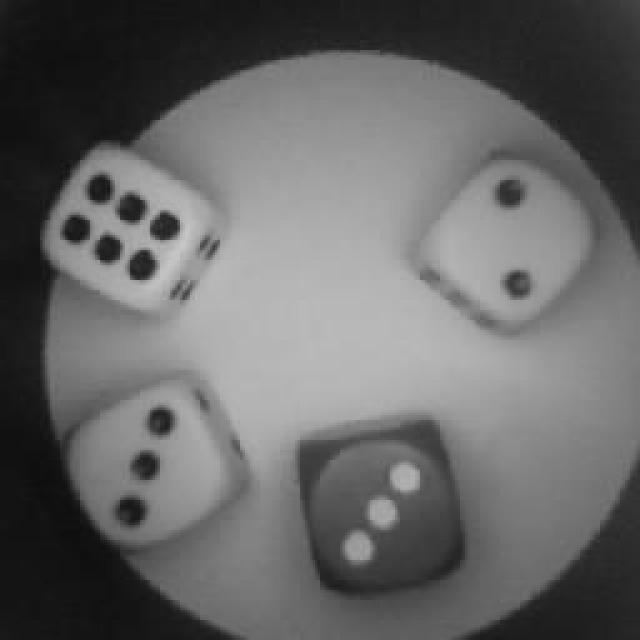dice_2: (442, 155, 602, 333)
dice_3: (60, 372, 255, 550), (300, 422, 465, 588)
dice_6: (53, 158, 205, 302)
